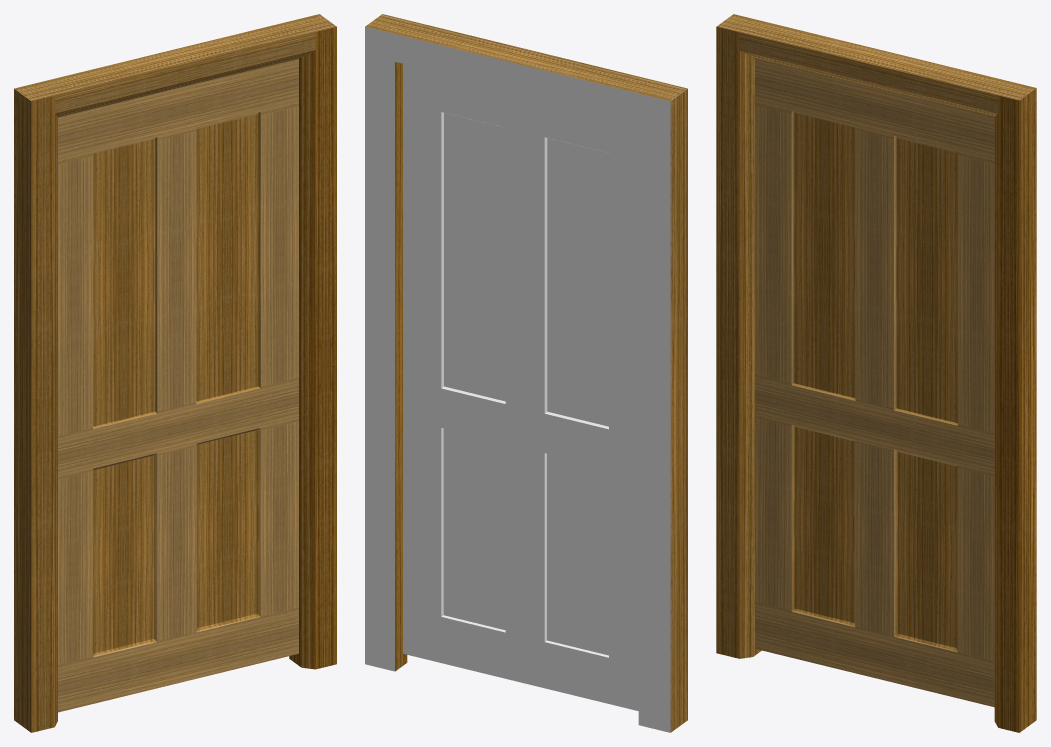
Rendered from Door.fbx.
The picture shows the model from 3 angles, left to right: view 1: azimuth 30°, elevation 25°; view 2: azimuth 150°, elevation 25°; view 3: azimuth 330°, elevation 25°; orthographic projection.
Parts seen in each view (by area): view 1: pCube1, pCube2; view 2: pCube1, pCube2; view 3: pCube1, pCube2.
Part boxes in pixels (bbox=[...]): pCube1: bbox=[58, 58, 298, 712]; pCube2: bbox=[14, 14, 336, 732]; pCube1: bbox=[403, 64, 638, 710]; pCube2: bbox=[365, 14, 687, 732]; pCube1: bbox=[755, 58, 994, 707]; pCube2: bbox=[716, 14, 1036, 732].
Bounding box in the file's own units: 10.14 × 20.21 × 1.
